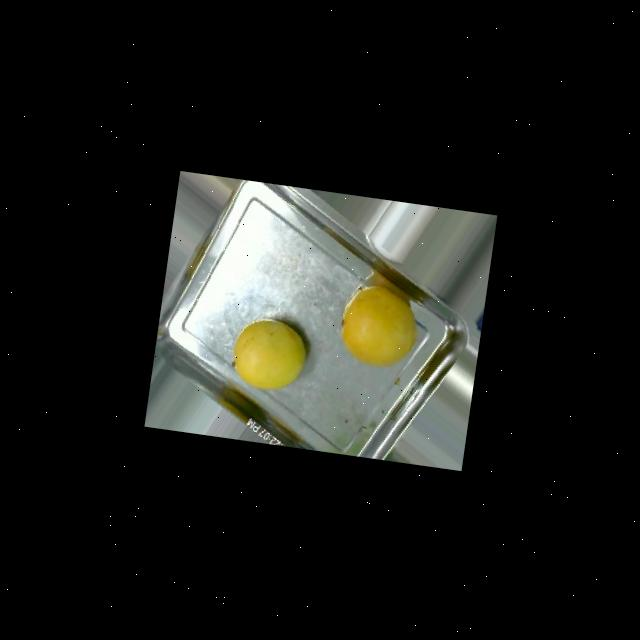Mango: (334, 280, 421, 372), (227, 314, 309, 394)
